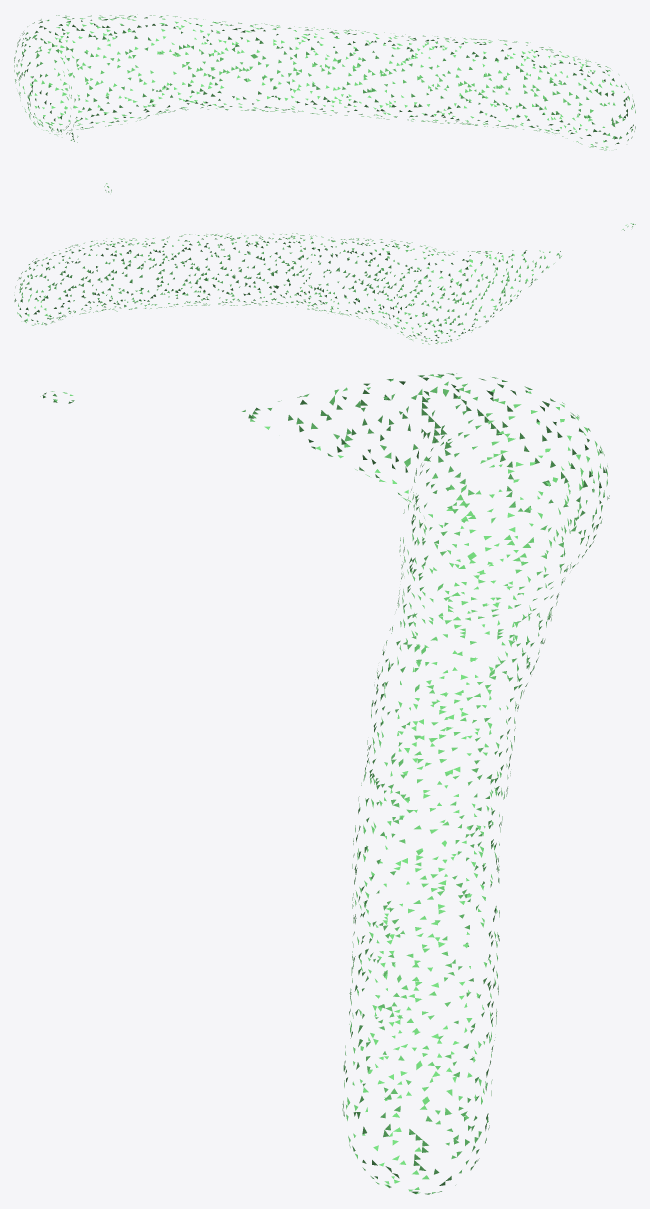
File: morph_018.glb
The picture shows the model from 3 angles, top to bottom: view 1: azimuth 30°, elevation 25°; view 2: azimuth 150°, elevation 25°; view 3: azimuth 270°, elevation 25°; orthographic projection. The views are drawn at different scales.
Bounding box in the file's own units: 116 × 40.38 × 54.85.
